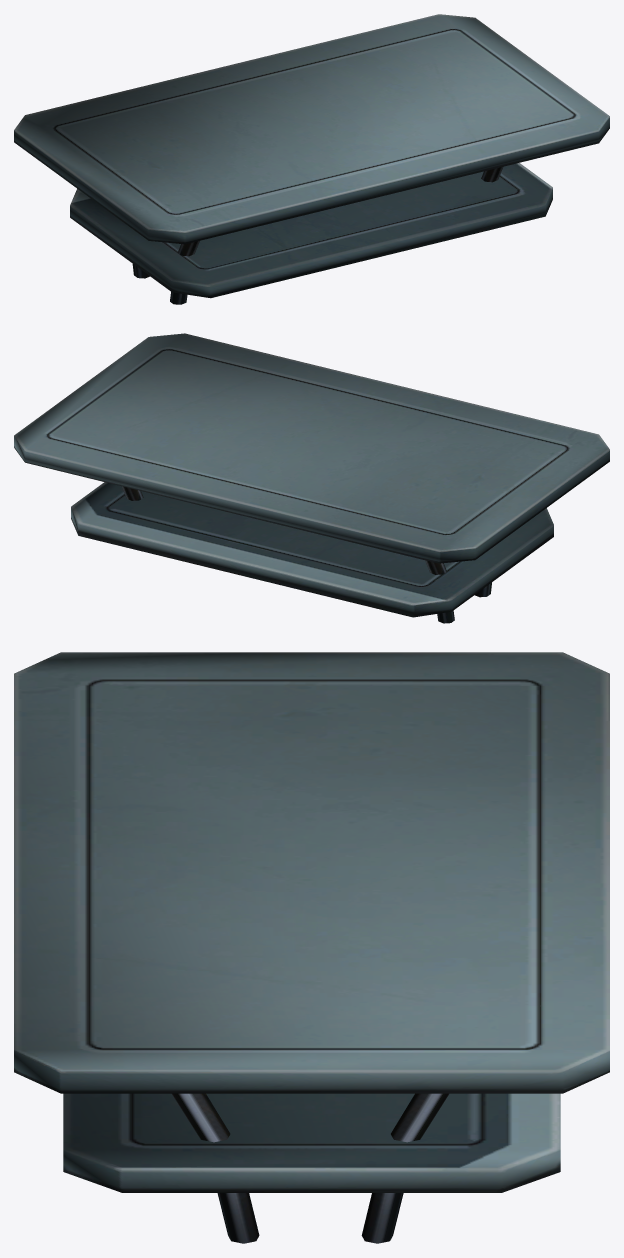
File: table1.glb
3 renders of one model, top to bottom at view 1: azimuth 30°, elevation 25°; view 2: azimuth 150°, elevation 25°; view 3: azimuth 270°, elevation 25°, orthographic. The views are drawn at different scales.
Visible parts, largest first — view 1: Box04; view 2: Box04; view 3: Box04.
Boxes of the visible parts, x1,y1,x2,y2 form: Box04: [14, 14, 609, 304]; Box04: [14, 333, 609, 623]; Box04: [14, 652, 609, 1243].
Size of the model in its own units: 90.84 by 24.01 by 54.58.
1 material, 1 textured.
